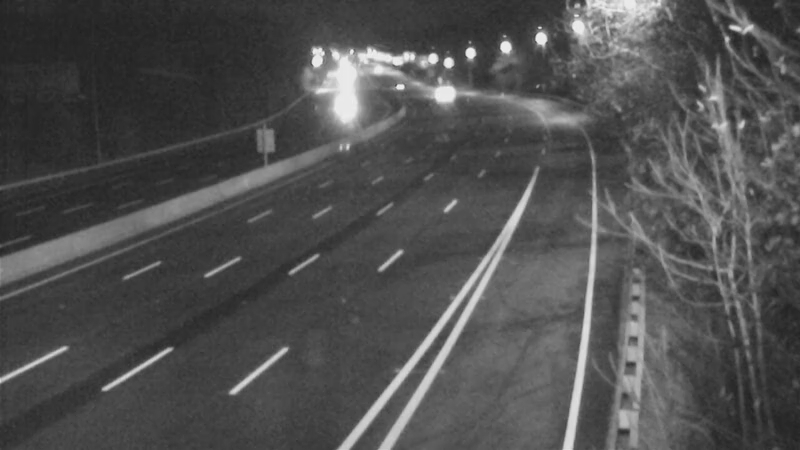vehicle: (372, 59, 422, 109), (412, 66, 462, 116), (321, 81, 371, 131)
